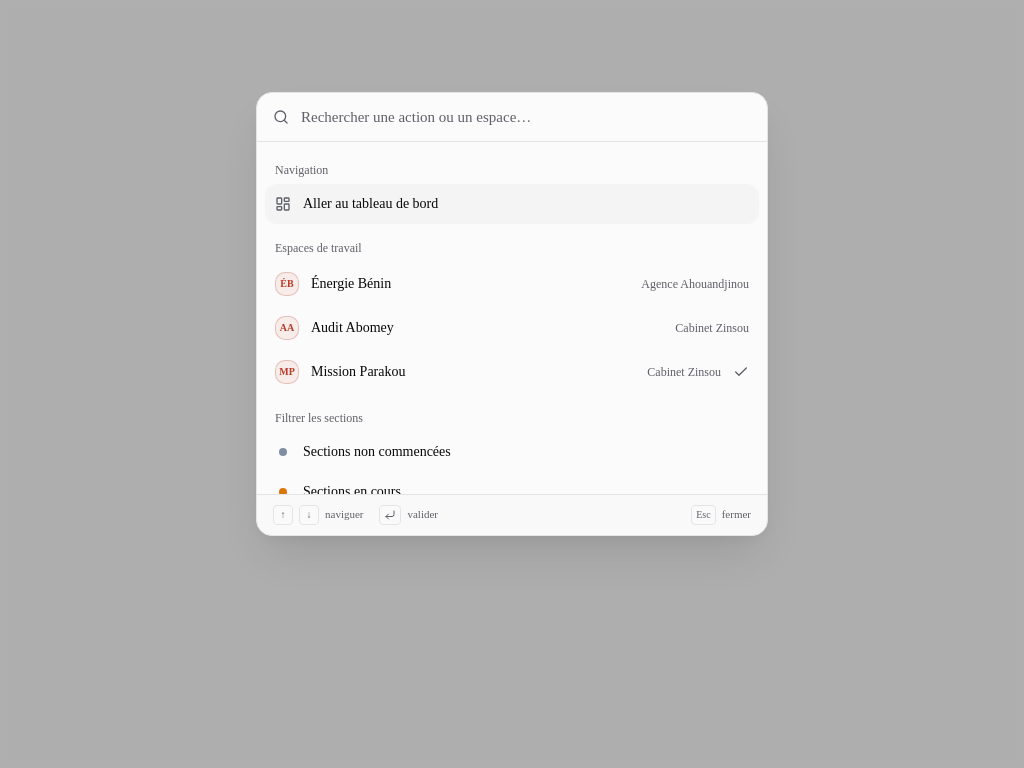
Test case: CommandPalette, all actions › still finds an action typed without accents
Type "theme sombre" into the dropdown. click: [526, 117]
box: [301,93,751,141]
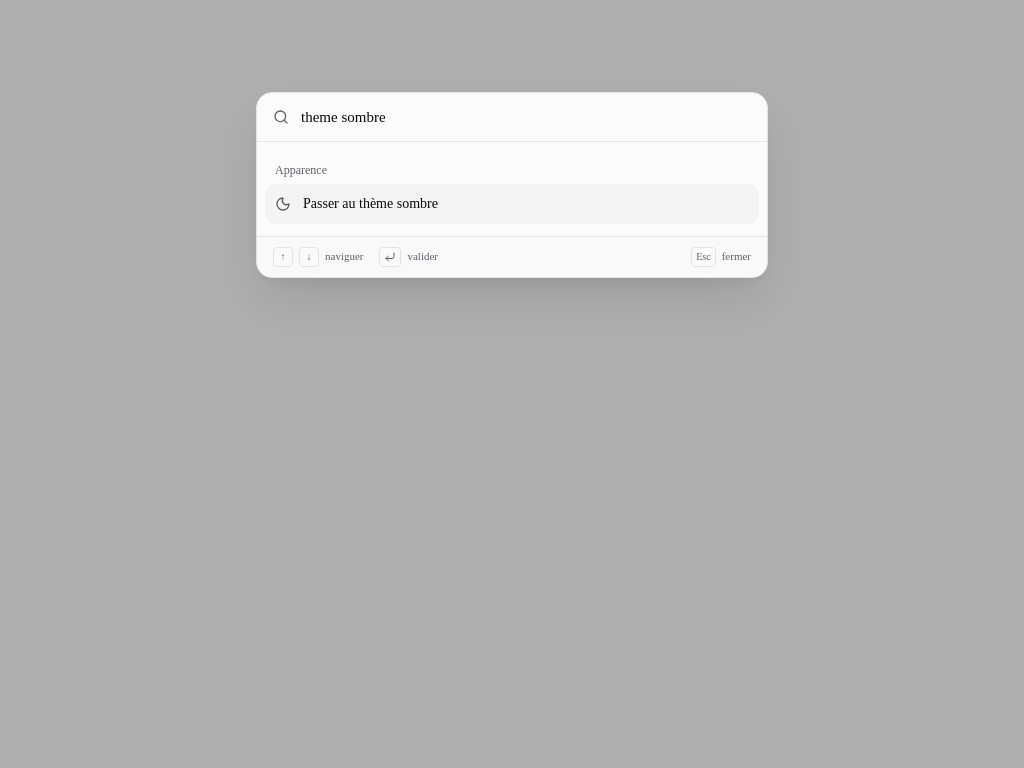
Check: the option reads "Passer au thème sombre", box [265,184,759,224]
